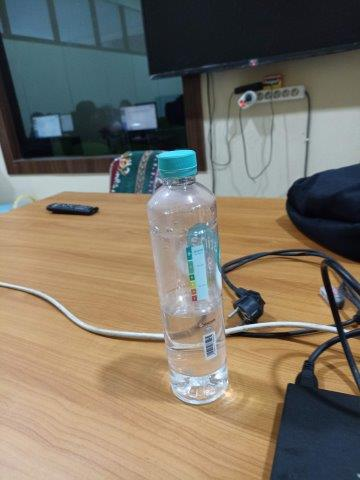botolplastik: (147, 149, 229, 405)
